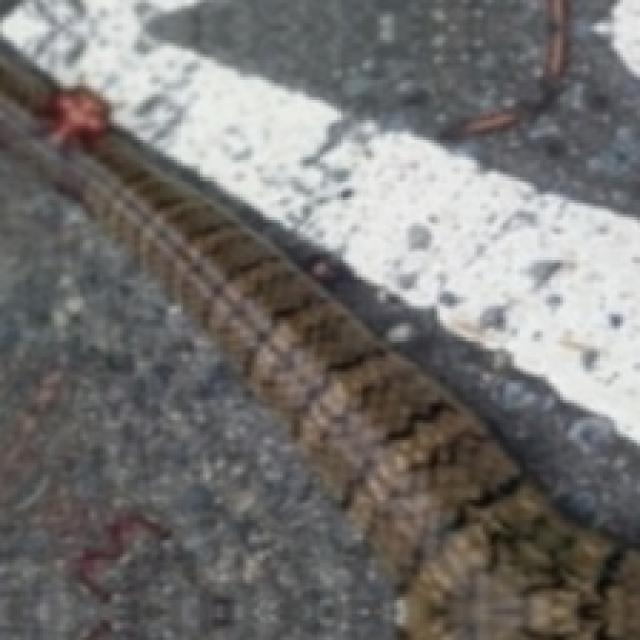king cobra: (0, 48, 640, 640)
